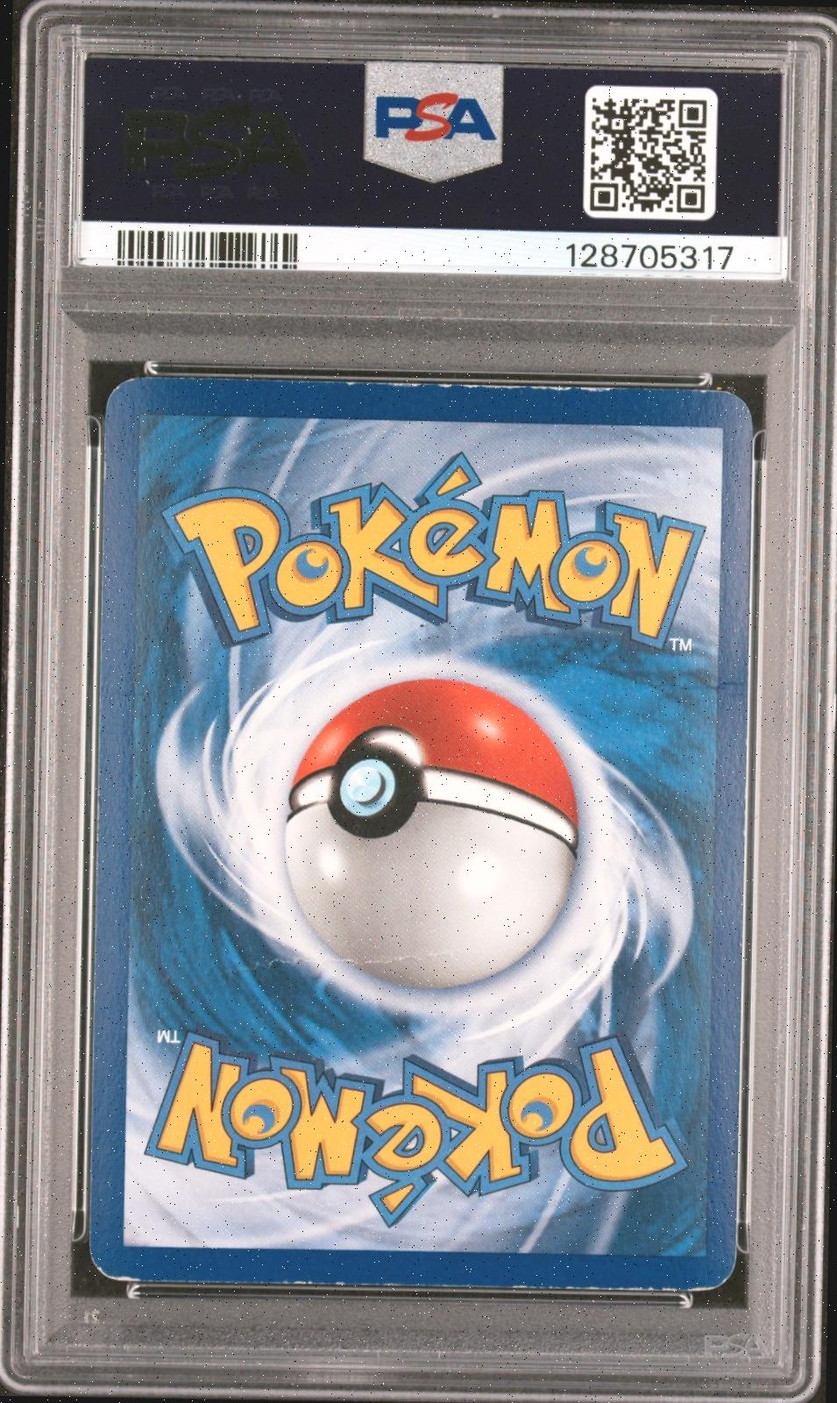card-2UtV: (88, 376, 753, 1292)
